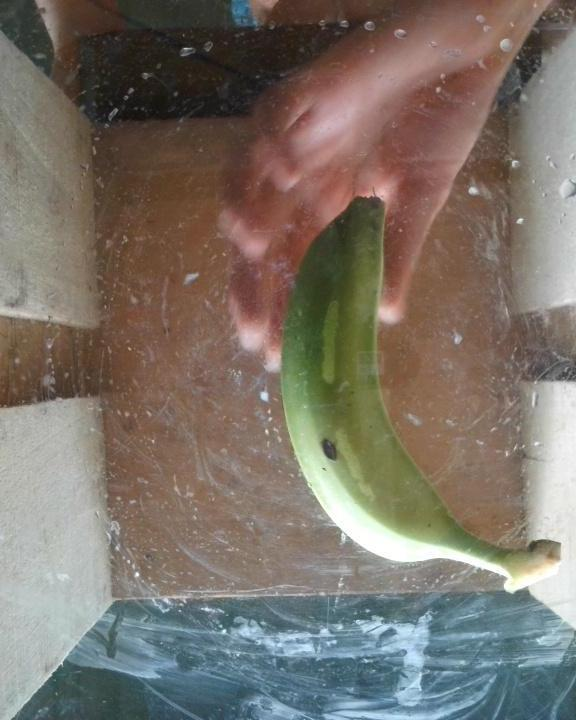CLASS B: (270, 190, 566, 598)
Class A: (313, 433, 347, 468)
